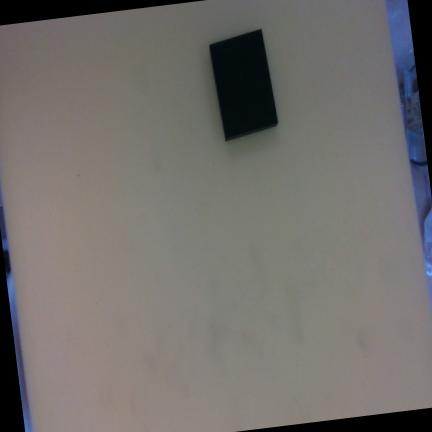tile: (207, 27, 279, 136)
